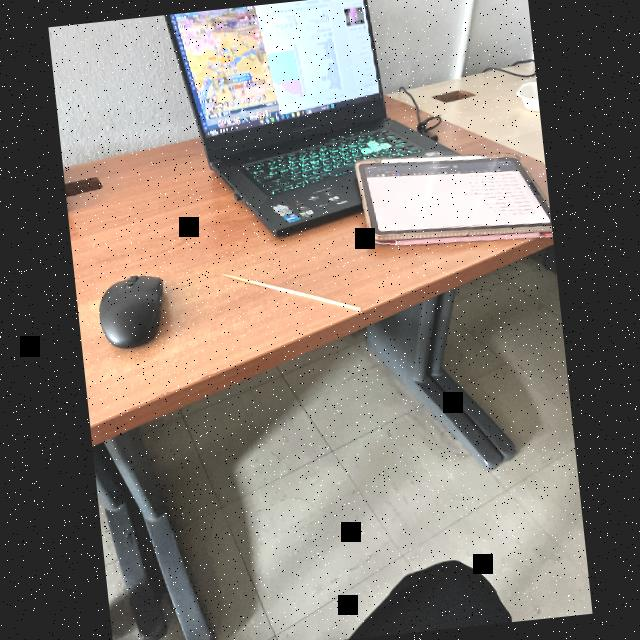stick: (208, 252, 374, 338)
